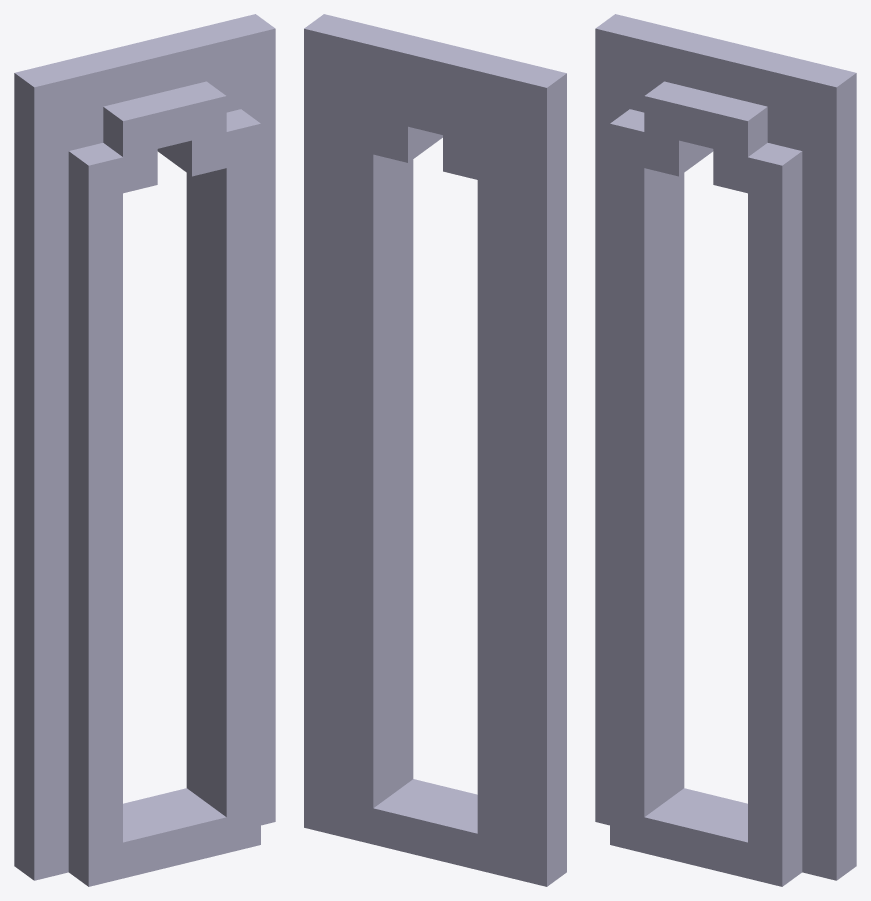
File: Arch3.obj
The picture shows the model from 3 angles, left to right: view 1: azimuth 30°, elevation 25°; view 2: azimuth 150°, elevation 25°; view 3: azimuth 330°, elevation 25°; orthographic projection.
Visible parts, largest first — view 1: BuildingPieces.005; view 2: BuildingPieces.005; view 3: BuildingPieces.005.
Boxes of the visible parts, box(x1,y1,x2,y2) form: BuildingPieces.005: box(14, 14, 275, 886); BuildingPieces.005: box(304, 14, 566, 886); BuildingPieces.005: box(595, 14, 856, 886).
Bounding box in the file's own units: 0.7 × 2.2 × 0.2.
